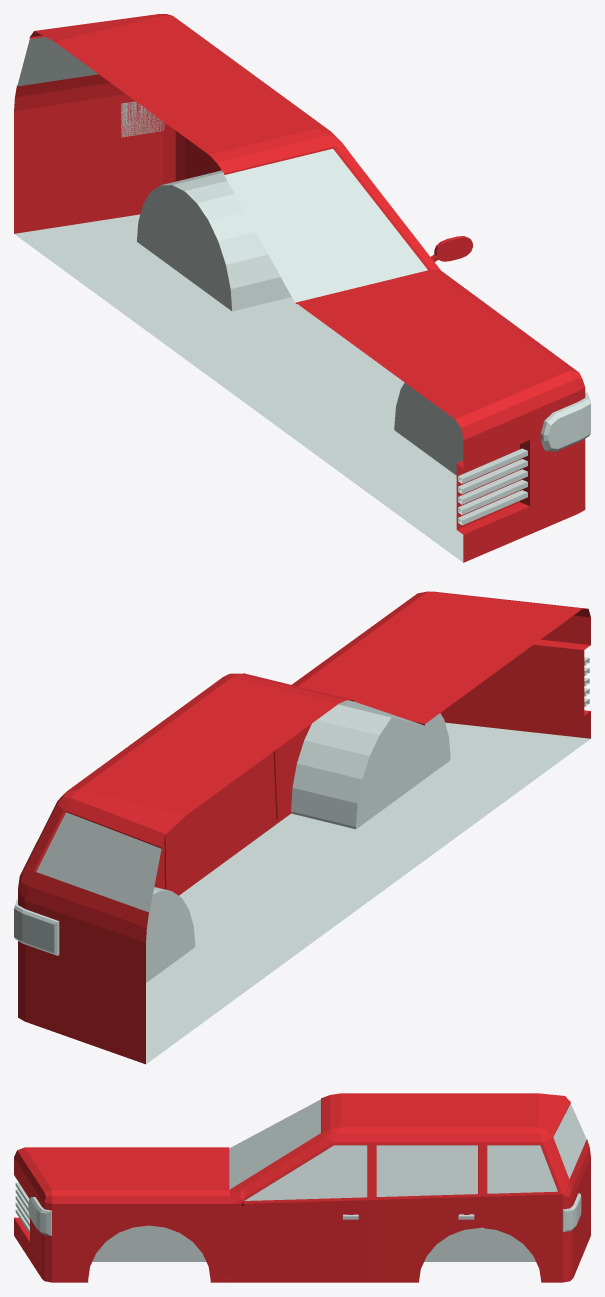
The model's file is car_colored.glb.
3 renders of one model, top to bottom at view 1: azimuth 30°, elevation 25°; view 2: azimuth 150°, elevation 25°; view 3: azimuth 270°, elevation 25°, orthographic. The views are drawn at different scales.
Visible parts, largest first — view 1: Cube; view 2: Cube; view 3: Cube.
Boxes of the visible parts, x1,y1,x2,y2 form: Cube: (14,14,590,562); Cube: (14,591,590,1064); Cube: (14,1093,590,1282).
Size of the model in its own units: 8.78 by 9.97 by 36.64.
